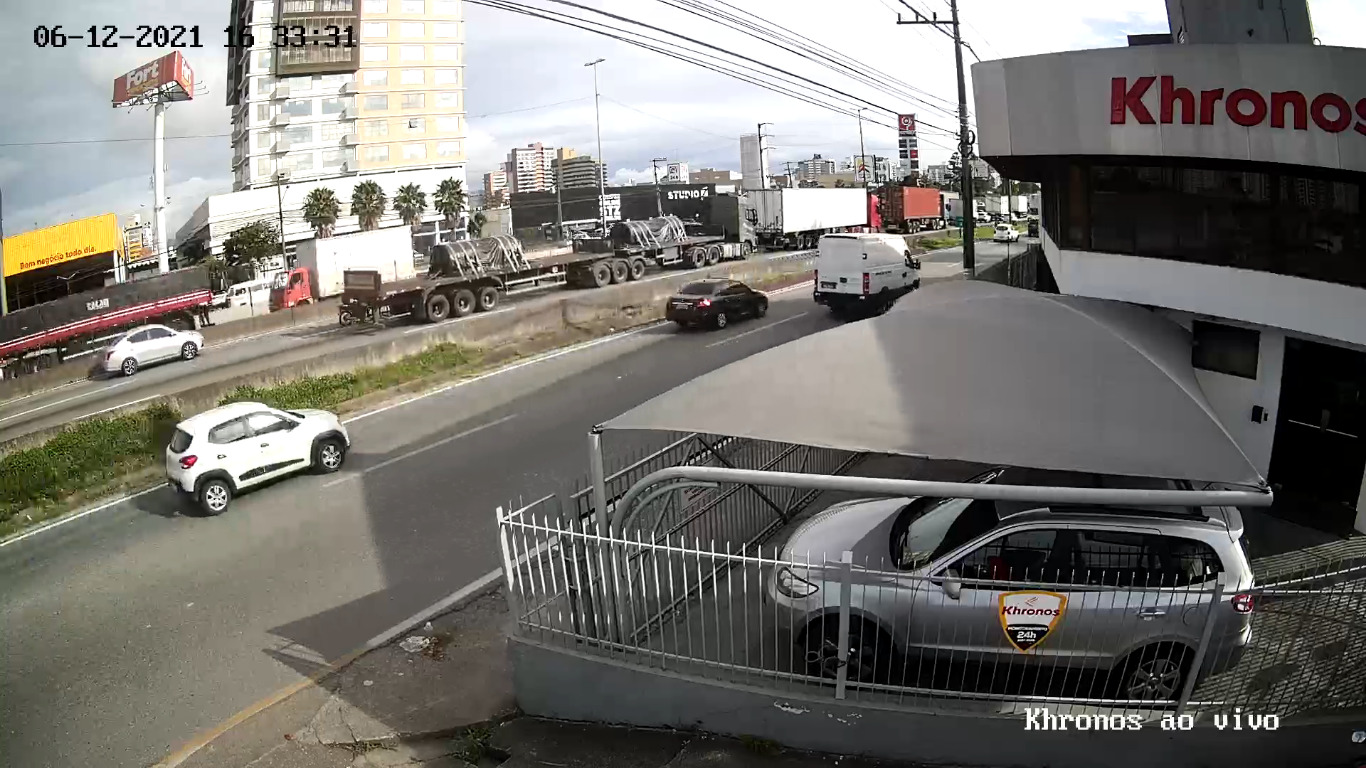car: (166, 399, 352, 515), (666, 274, 771, 327)
